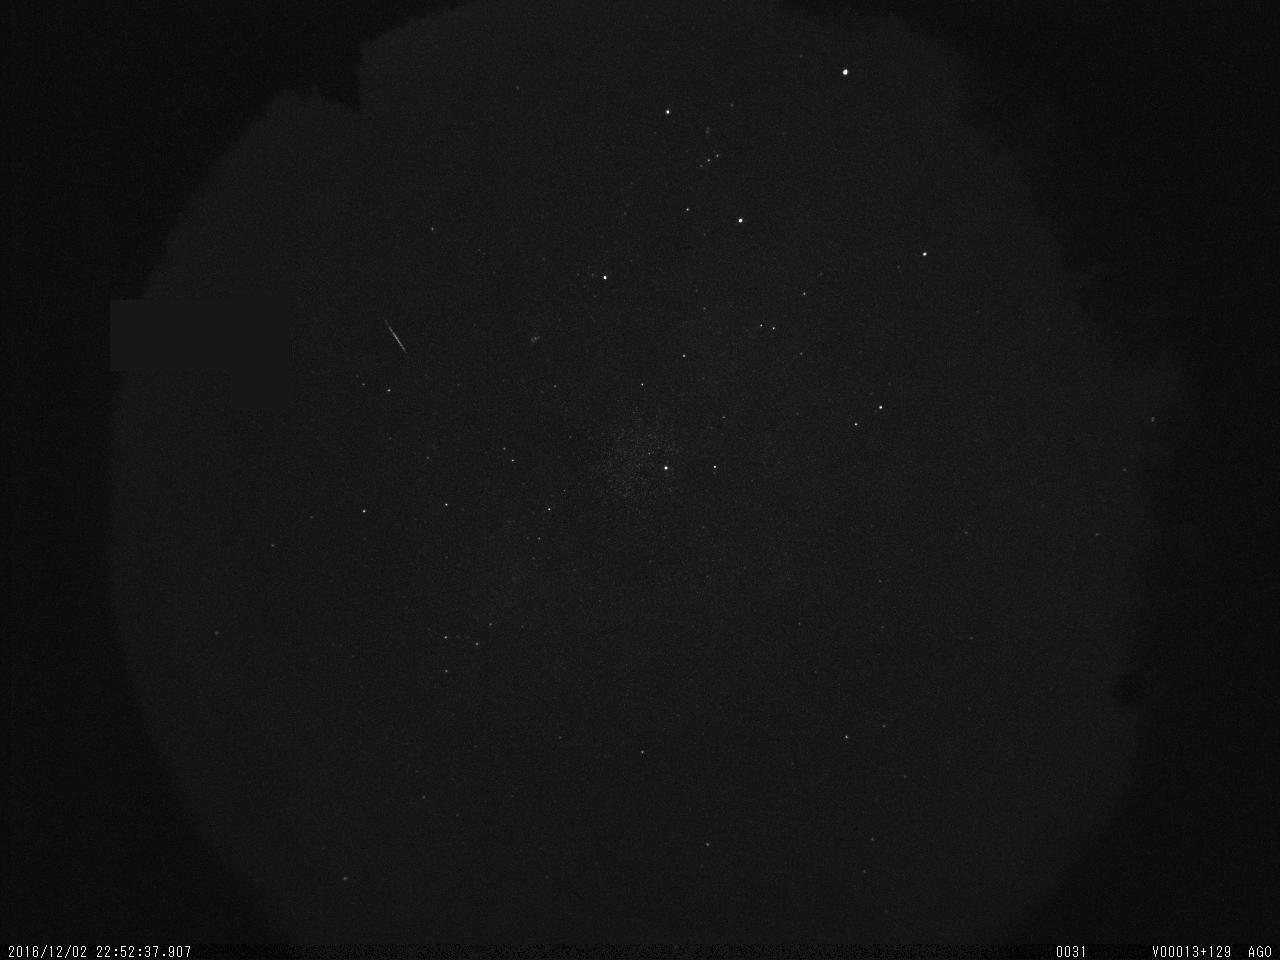Meteor: (380, 314, 413, 360)
